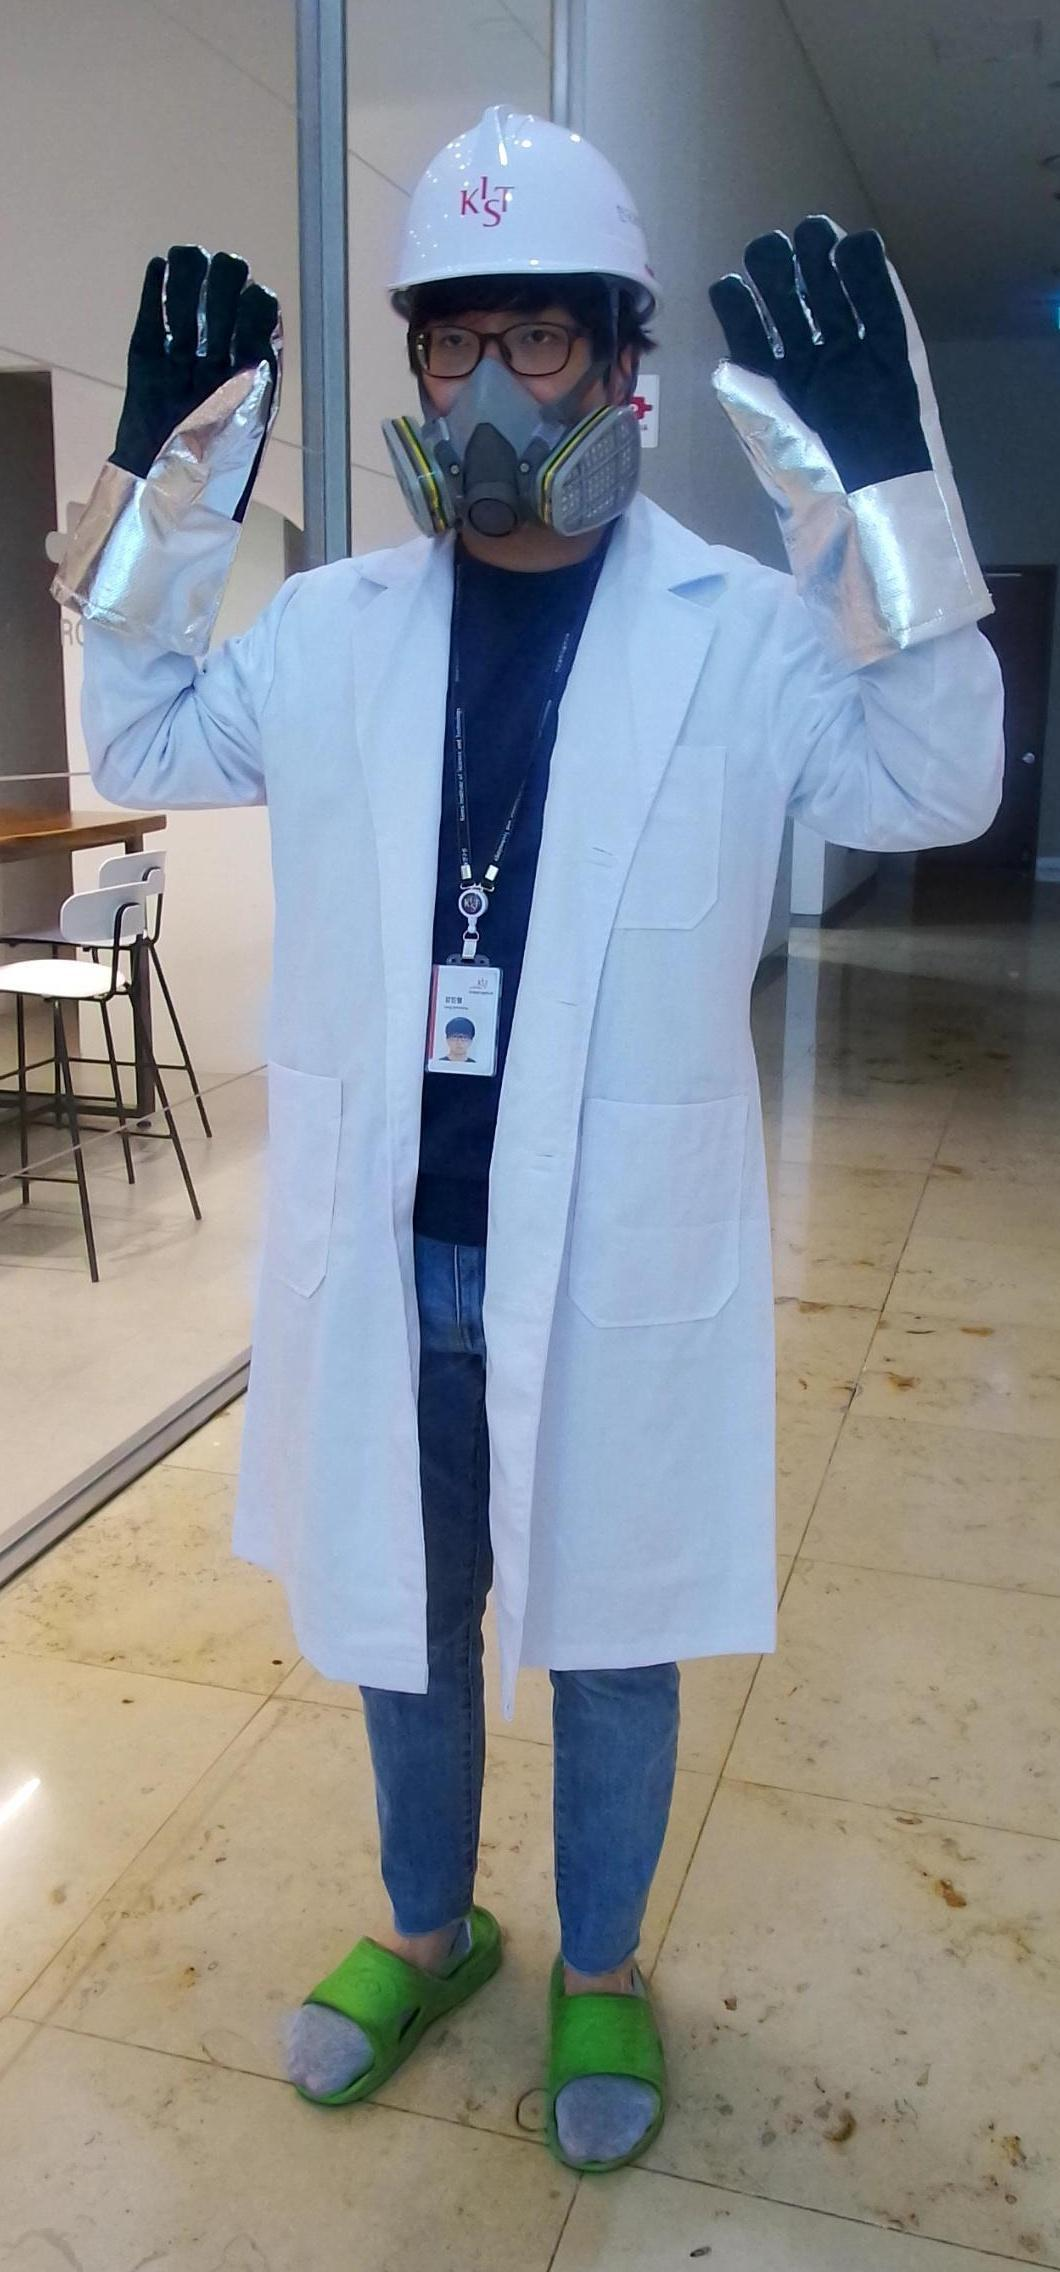lab_coat: (203, 585, 821, 1647)
